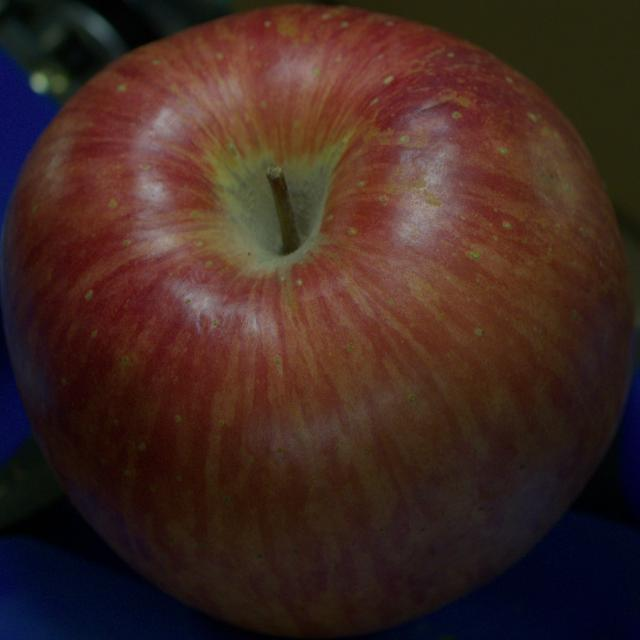apple: (0, 6, 632, 636)
bruise: (525, 119, 588, 222)
scratch: (421, 90, 469, 112)
